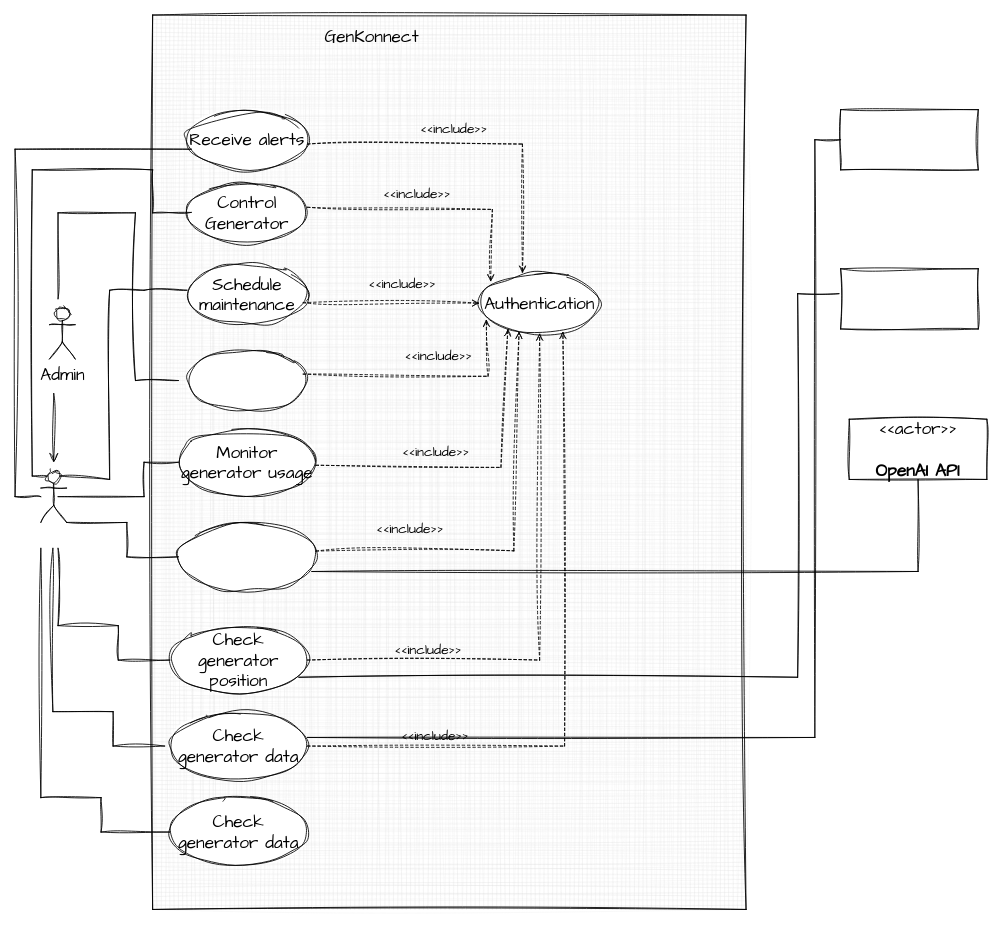
Some shapes in this 1002 by 925 pixel diagram are drawn without their labels. The centre of each missing label's shape, as x and y in pixels:
<<actor>> GenKonnect: point 909,139
<<actor>> Map API: point 909,298
Analyse generator data: point 247,556
Client: point 53,496
Generate reports: point 246,380
